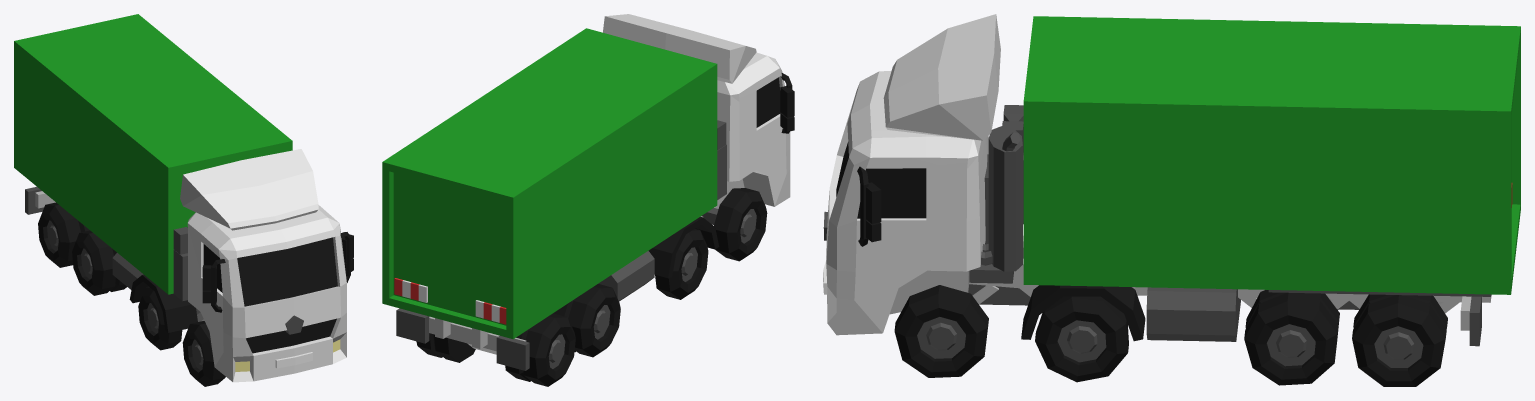
File: Truck.glb
3 views of the same model, side by side, from view 1: azimuth 30°, elevation 25°; view 2: azimuth 150°, elevation 25°; view 3: azimuth 270°, elevation 25° (orthographic). The views are drawn at different scales.
Parts seen in each view (by area): view 1: Truck 1 Cargo, Truck 1, WheelT1-7, WheelT1-8, WheelT1-5, WheelT1-6; view 2: Truck 1 Cargo, Truck 1, WheelT1-8, WheelT1-5, WheelT1-7, WheelT1-6, WheelT1-4; view 3: Truck 1 Cargo, Truck 1, WheelT1-3, WheelT1-4, WheelT1-1, WheelT1-2.
Part boxes in pixels (box(x1,y1,x2,y2)): Truck 1 Cargo: box(14, 14, 292, 294); Truck 1: box(25, 149, 353, 382); WheelT1-7: box(72, 230, 126, 295); WheelT1-8: box(38, 202, 89, 267); WheelT1-5: box(182, 321, 225, 386); WheelT1-6: box(138, 286, 182, 350); Truck 1 Cargo: box(382, 28, 717, 339); Truck 1: box(396, 14, 794, 370); WheelT1-8: box(505, 313, 575, 386); WheelT1-5: box(714, 188, 767, 261); WheelT1-7: box(553, 284, 620, 357); WheelT1-6: box(655, 229, 708, 299); WheelT1-4: box(416, 333, 475, 362); Truck 1 Cargo: box(1023, 16, 1520, 294); Truck 1: box(823, 14, 1491, 346); WheelT1-3: box(1244, 290, 1339, 385); WheelT1-4: box(1352, 294, 1447, 386); WheelT1-1: box(894, 285, 988, 377); WheelT1-2: box(1035, 296, 1128, 382).
Size of the model in its own units: 2.44 by 3.05 by 6.7.
5 materials, 5 textured.
